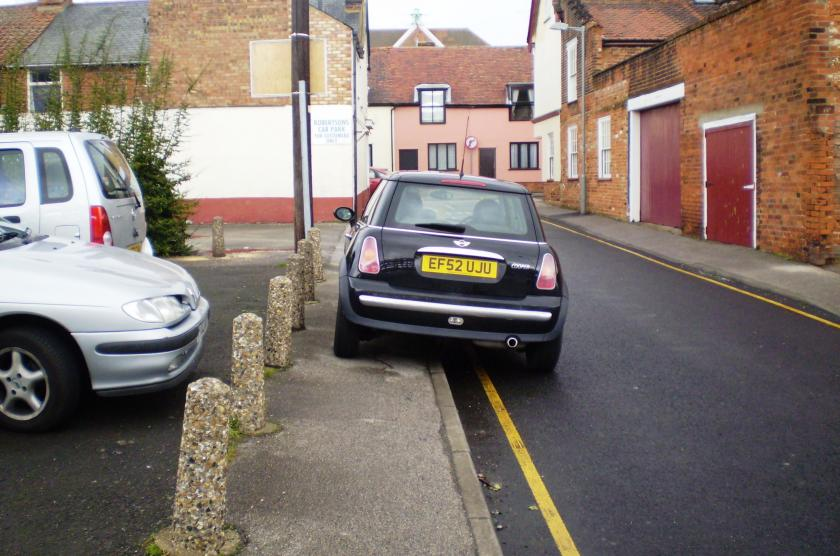car: (339, 171, 570, 375), (3, 198, 204, 409), (6, 115, 156, 254)
